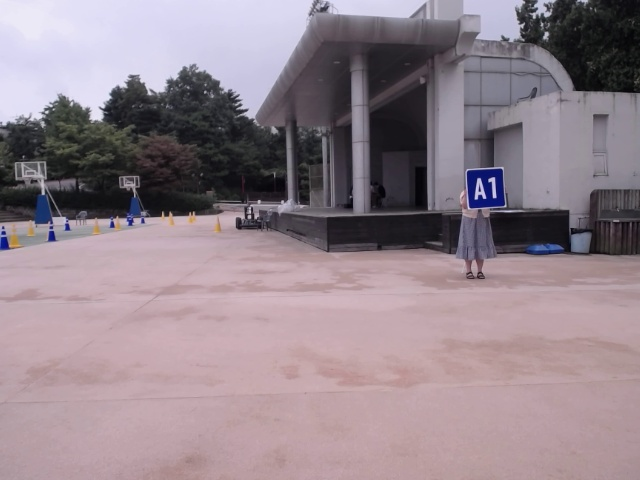delivery_a1: (466, 167, 507, 209)
